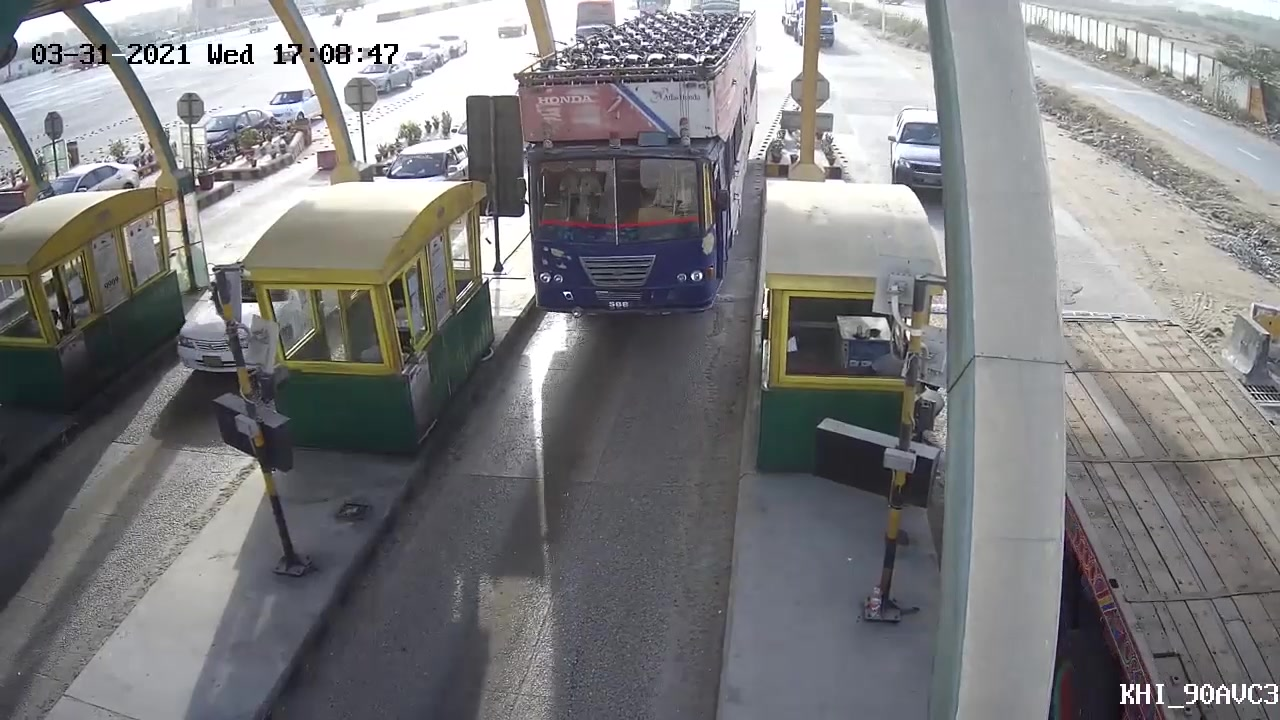F5: (510, 1, 768, 330)
